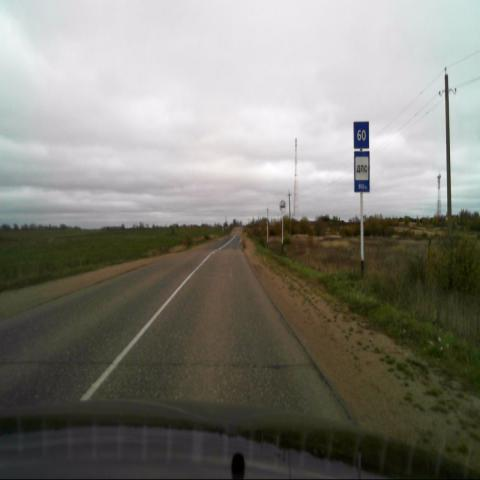6_2: (354, 121, 370, 150)
7_12: (354, 150, 370, 193)
